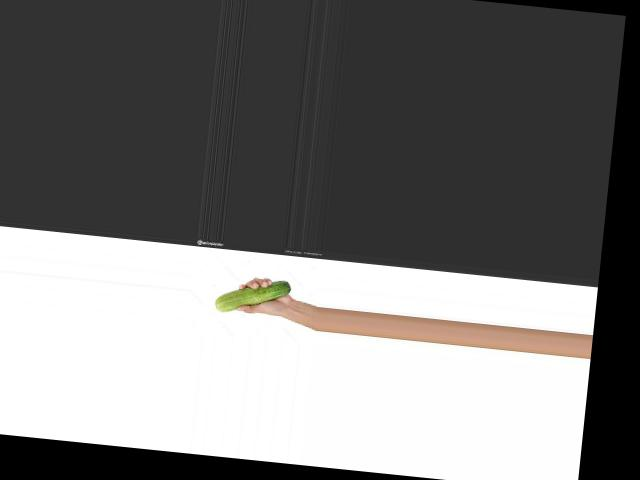cucumber: (215, 274, 292, 318)
